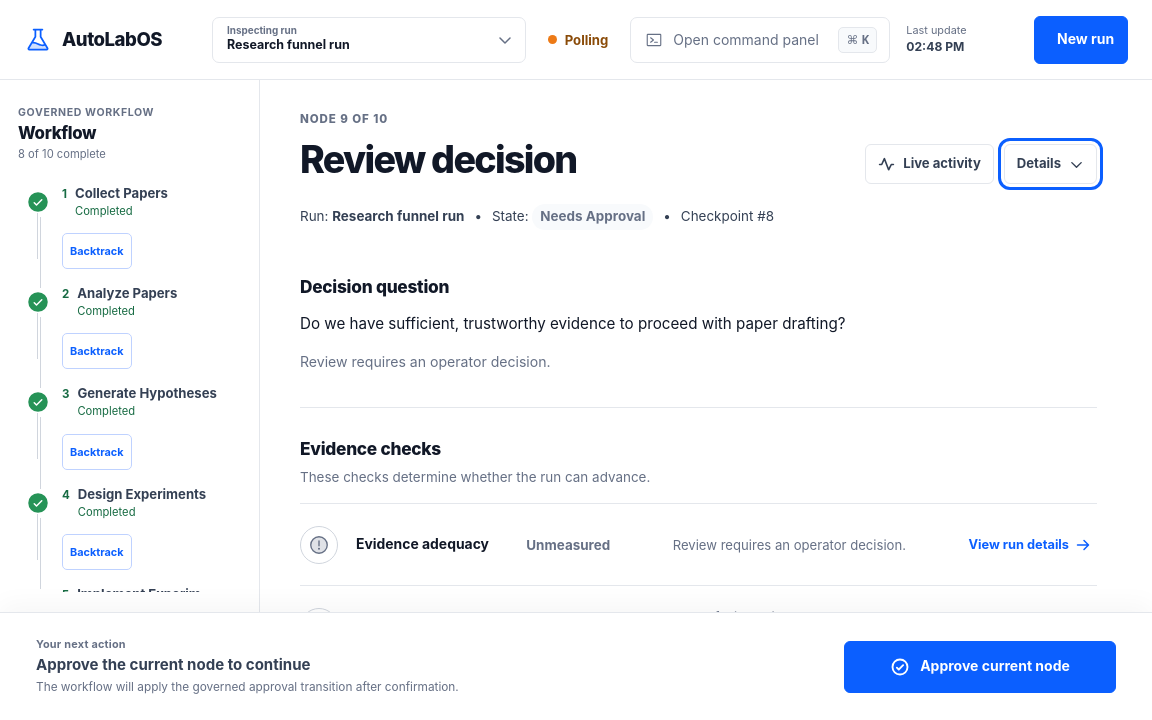
Scenario: App › keeps pre-probe selection visible while prioritizing a trusted estimator block
Click the button "Details".
click(1050, 164)  # box [1004, 144, 1097, 184]
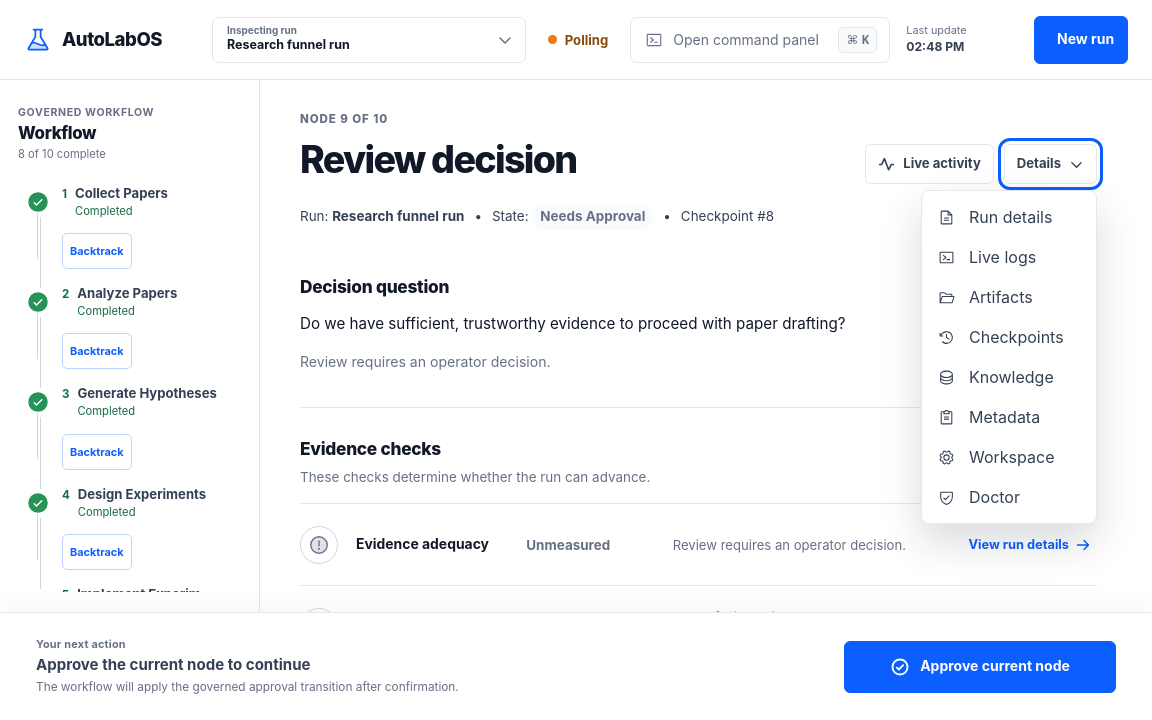
Click the button "Run details".
click(1009, 217)  # box [928, 197, 1090, 237]
(page scrolled)
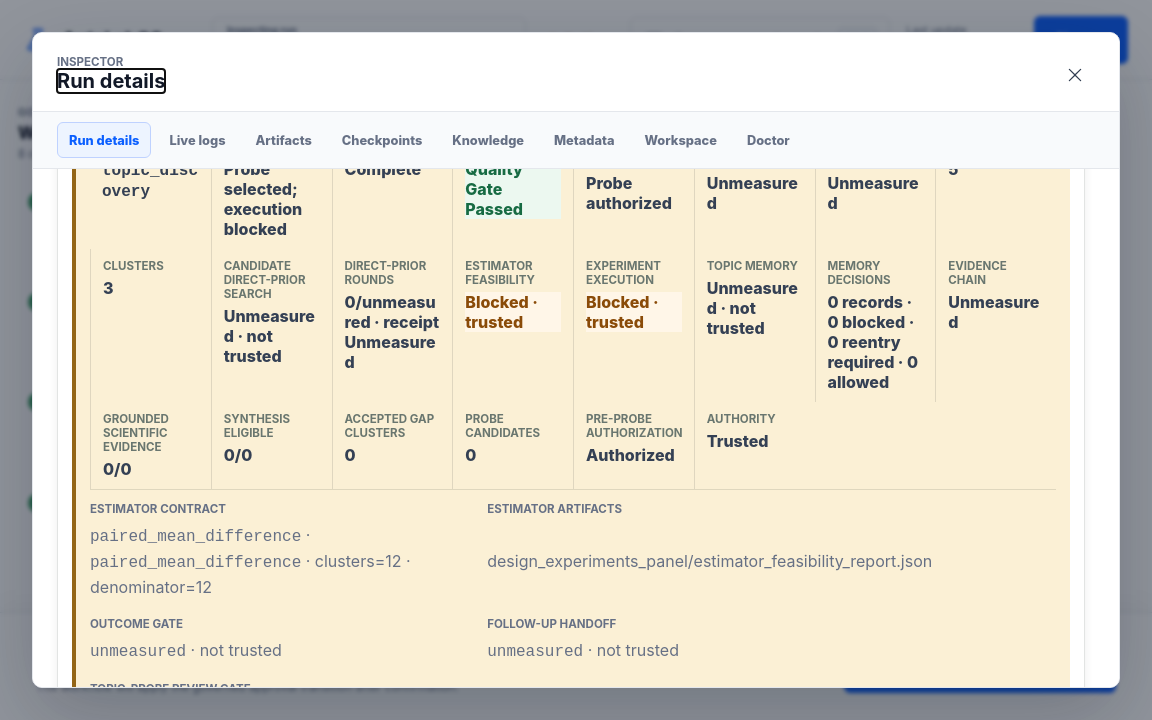
Now the text "Probe selected; execution blocked" is shown, box [224, 169, 302, 239]
Now the text "Estimator feasibility" shows "Blocked · trusted", box [452, 249, 573, 402]
Now the text "Experiment execution" shows "Blocked", box [586, 292, 650, 312]
